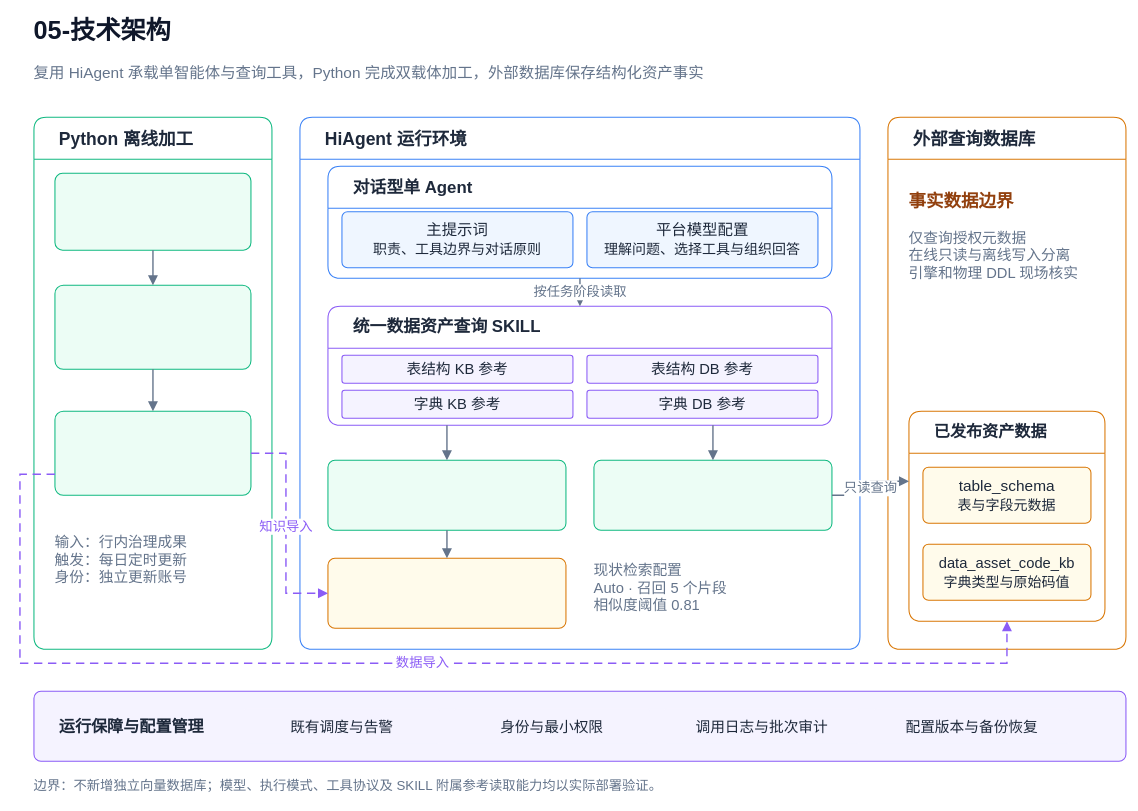
This 1138x811 diagram has some shape labels left out. The shapes that lost their labels are listed below. From the top down, each one's centre as x and y in pixels, then its label:
At point 152,211: "接收与质量校验 来源 · 批次 · 结构 · 映射".
At point 152,326: "双载体生成 Markdown 知识文档 SQL 与数据库导入数据".
At point 152,452: "预检与受控发布 两侧数量核对 · 幂等更新 验后核对 · 失败回退".
At point 446,494: "知识库检索与重排 混合检索 · qwen3_reranker".
At point 712,494: "HiAgent 数据库工具 外部直连 · 只读核验与取数".
At point 446,592: "平台知识库 数据库表结构知识库 数据字典类型及码值知识库".
